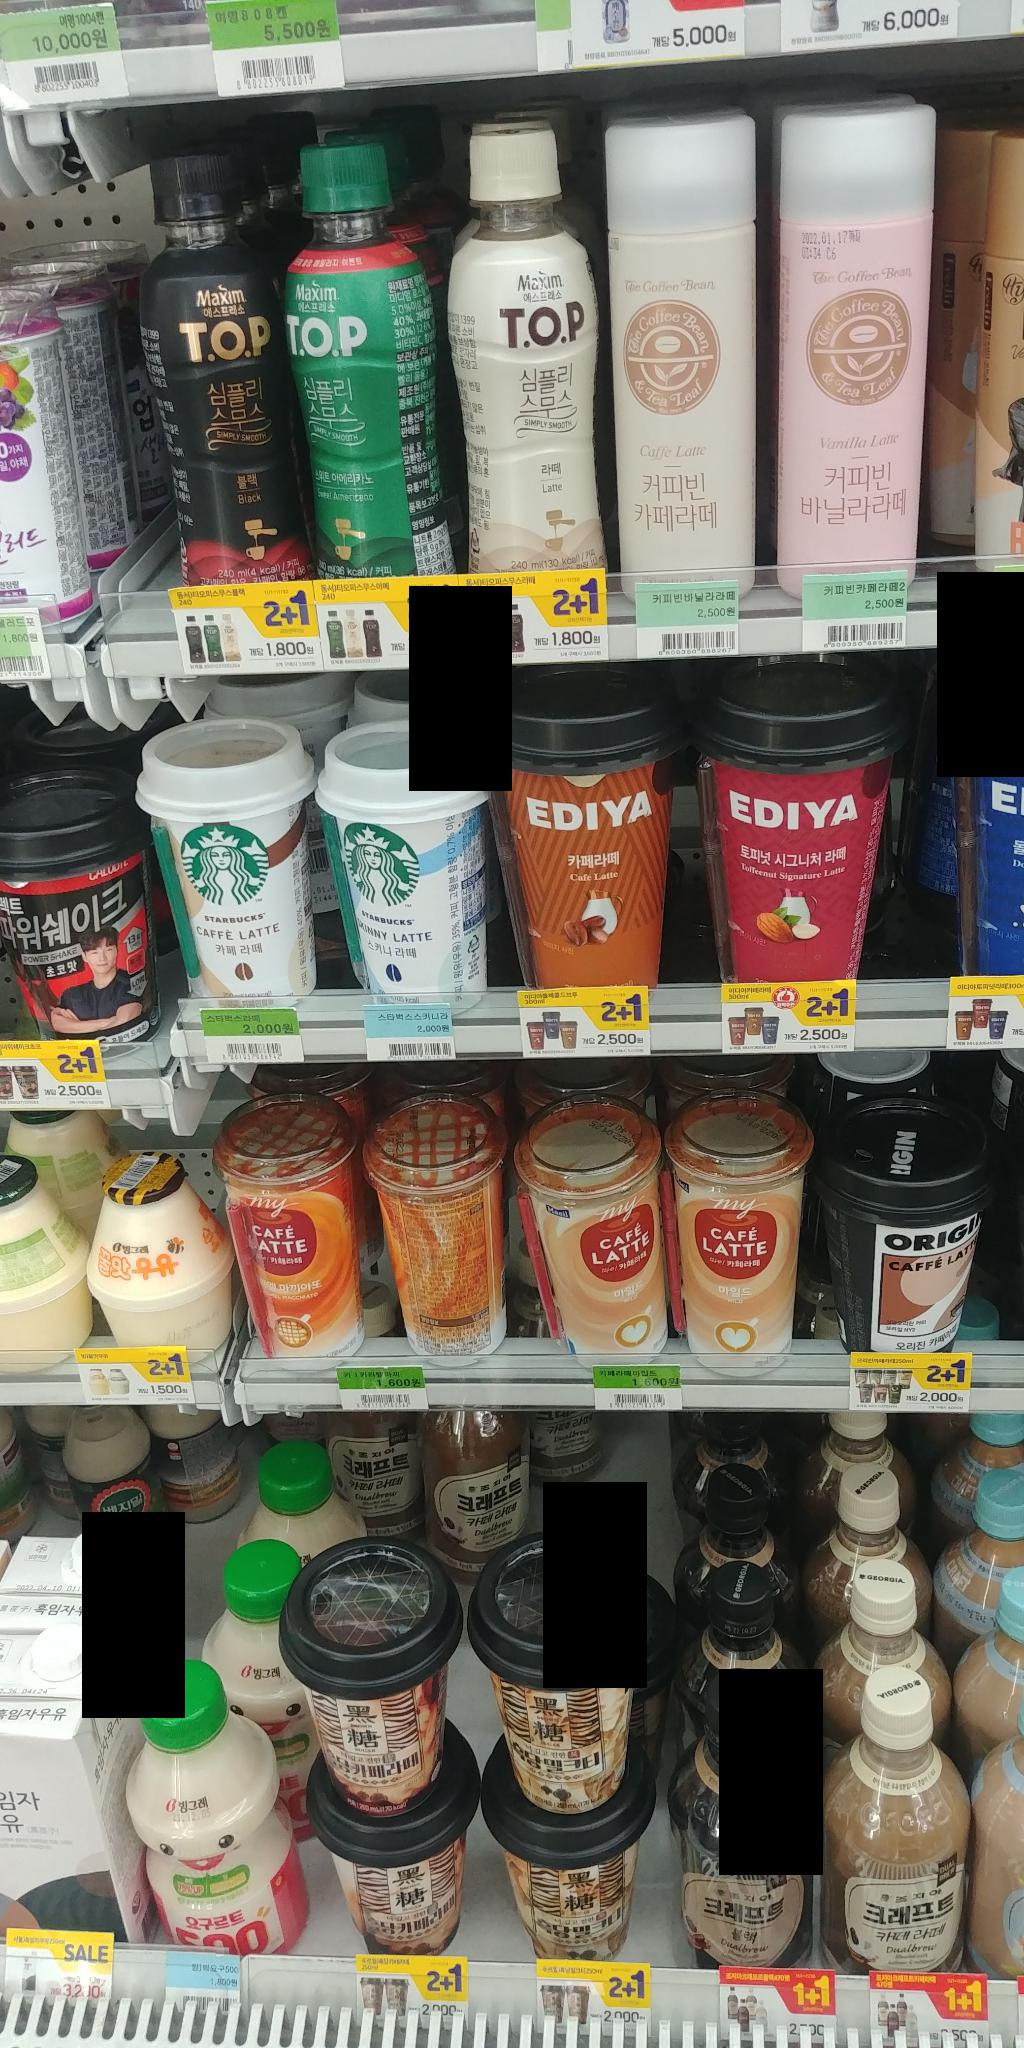starbucks_cafelatte: (121, 717, 324, 1011)
